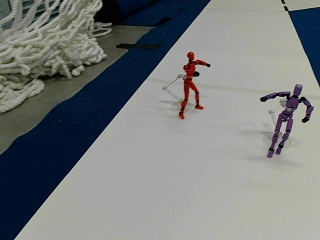pedestrian: (259, 82, 311, 156), (179, 51, 210, 117)
